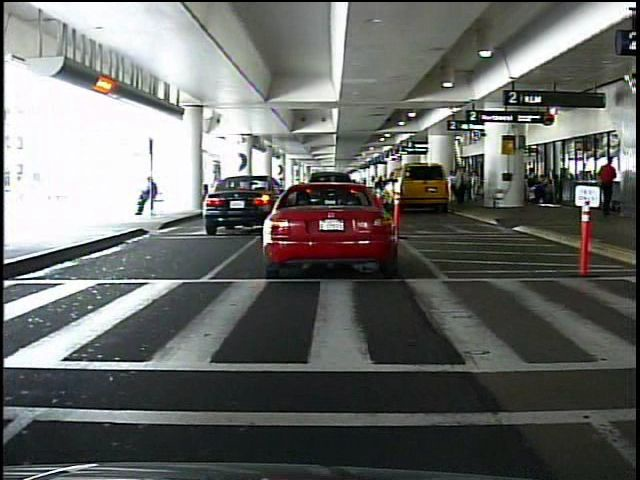person: (622, 144, 637, 305), (599, 157, 617, 216)
